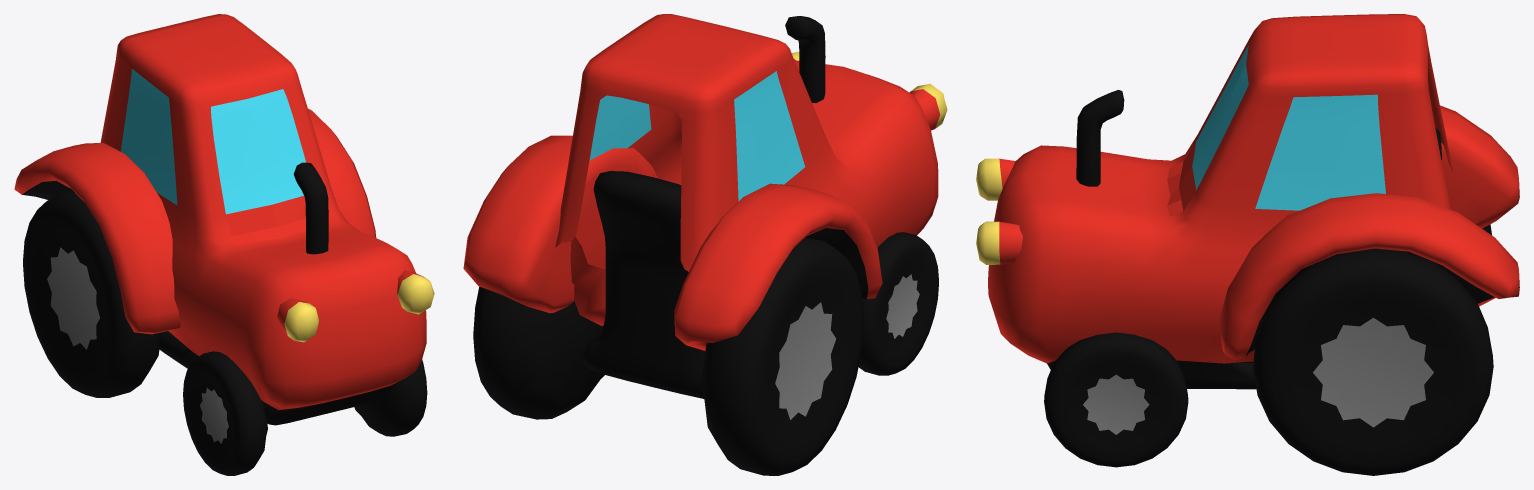
File: tractor.fbx
3 views of the same model, side by side, from view 1: azimuth 30°, elevation 25°; view 2: azimuth 150°, elevation 25°; view 3: azimuth 270°, elevation 25° (orthographic). The views are drawn at different scales.
Parts seen in each view (by area): view 1: Tractor; view 2: Tractor; view 3: Tractor.
Boxes of the visible parts, box(x1,y1,x2,y2) form: Tractor: box(14, 14, 434, 475); Tractor: box(463, 14, 947, 475); Tractor: box(976, 14, 1519, 475).
Bounding box in the file's own units: 3.01 × 3.74 × 4.86.
